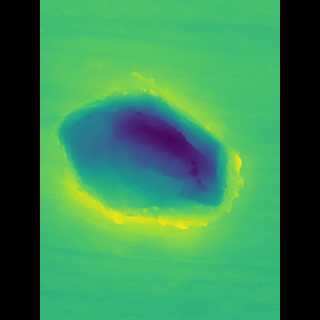Loch: (70, 71, 237, 247)
